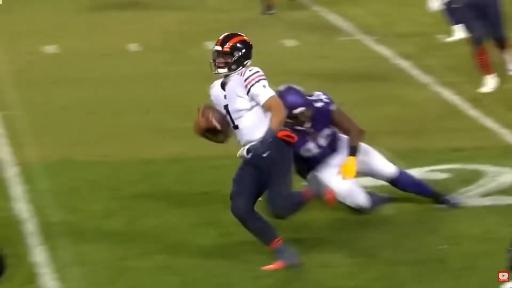Helmet: (211, 33, 252, 75), (276, 85, 313, 129)
Jersey: (210, 67, 275, 145), (292, 92, 339, 173)
Player: (210, 33, 313, 269), (277, 85, 458, 210), (447, 0, 511, 92), (427, 0, 469, 42), (444, 3, 469, 42)
